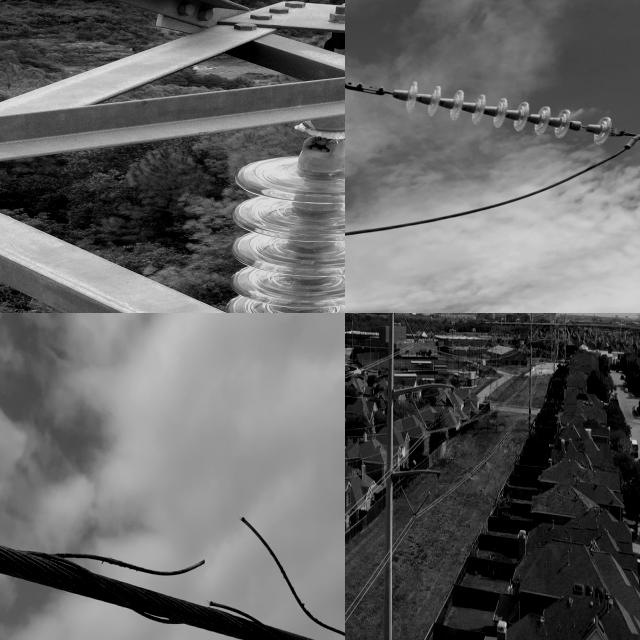正常电缆: (345, 138, 640, 249)
正常绝缘子: (367, 70, 638, 162), (231, 118, 345, 313), (423, 400, 449, 436), (412, 313, 436, 350), (412, 484, 435, 521), (410, 394, 431, 434), (397, 479, 417, 521), (400, 313, 419, 347)
电缆破损: (9, 499, 345, 640)
绝缘子破损: (294, 124, 345, 155), (576, 118, 592, 134)
